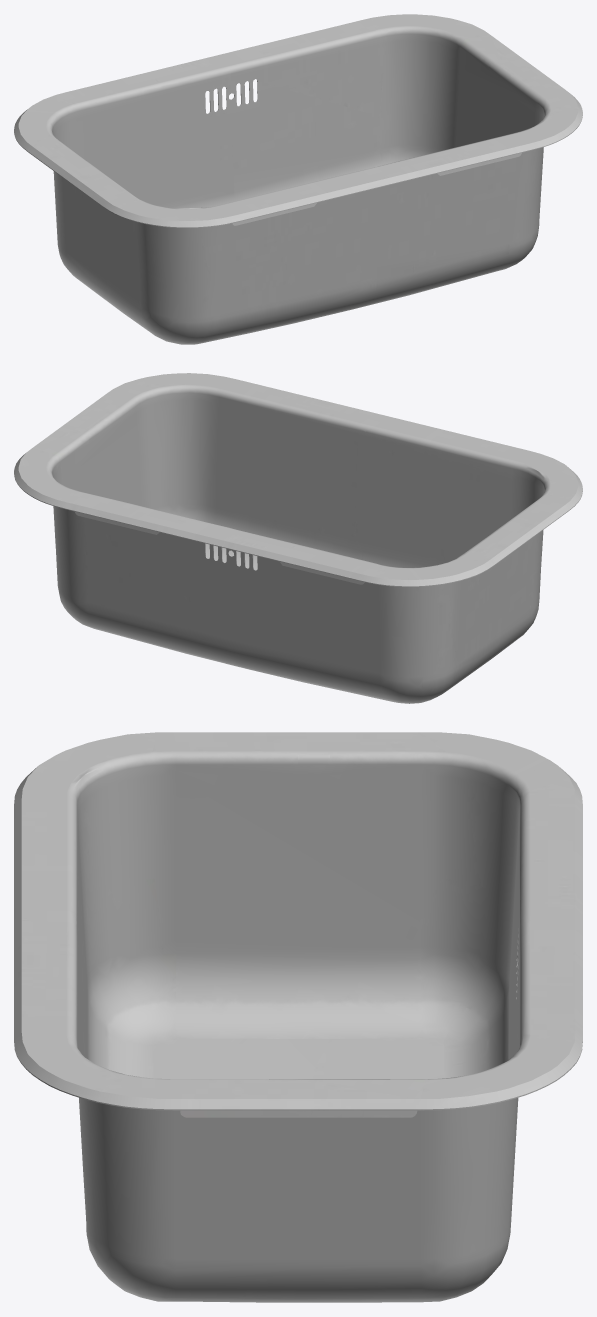
The model's file is BOHOLMEN Évier 47x30 cm.glb.
3 views of the same model, one above another, from view 1: azimuth 30°, elevation 25°; view 2: azimuth 150°, elevation 25°; view 3: azimuth 270°, elevation 25° (orthographic). The views are drawn at different scales.
Visible parts, largest first — view 1: model; view 2: model; view 3: model.
Boxes of the visible parts, x1=… form: model: x1=14, y1=14, x2=582, y2=344; model: x1=14, y1=373, x2=582, y2=703; model: x1=14, y1=732, x2=582, y2=1302.
Size of the model in its own units: 0.466 by 0.1571 by 0.3001.
Materials: 1 (1 with a texture image).
